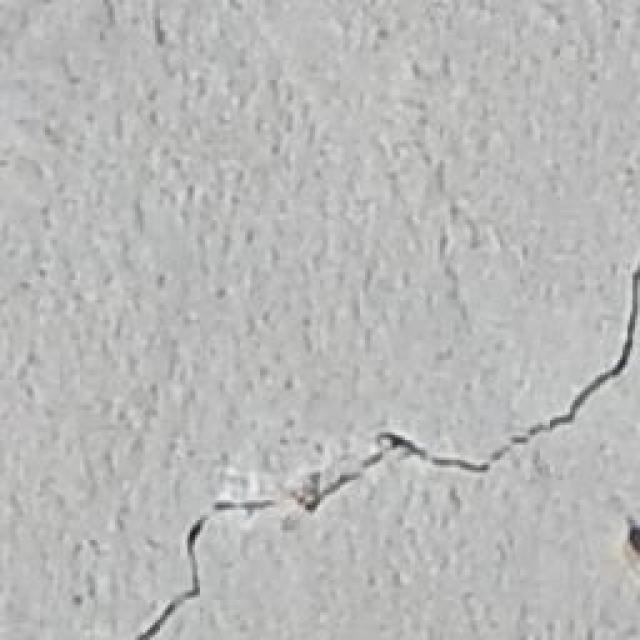concrete-crack: (123, 260, 640, 640)
